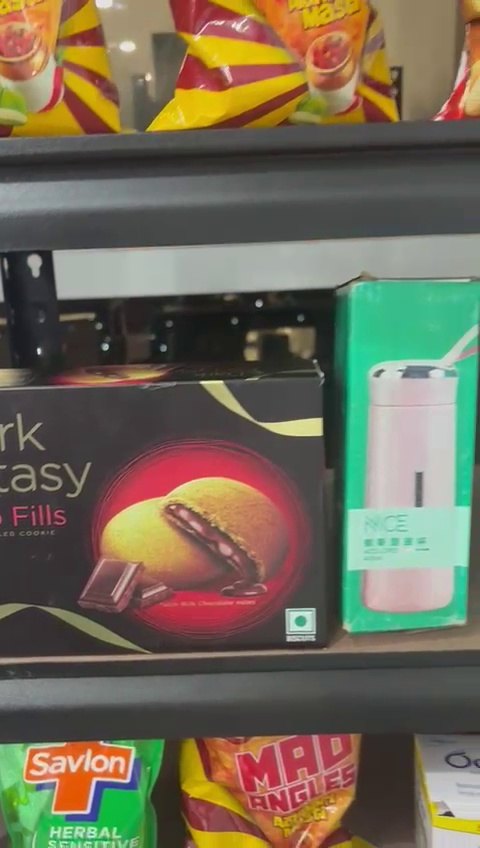Bottle: (345, 284, 480, 629)
